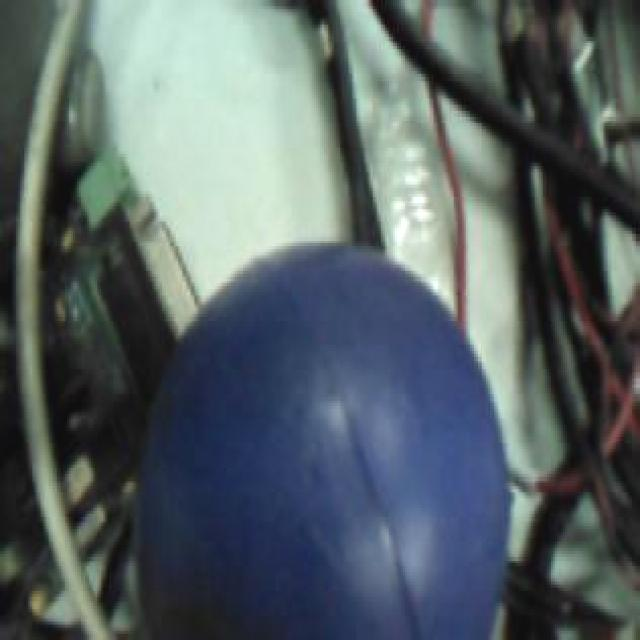BallPurple: (132, 241, 510, 640)
